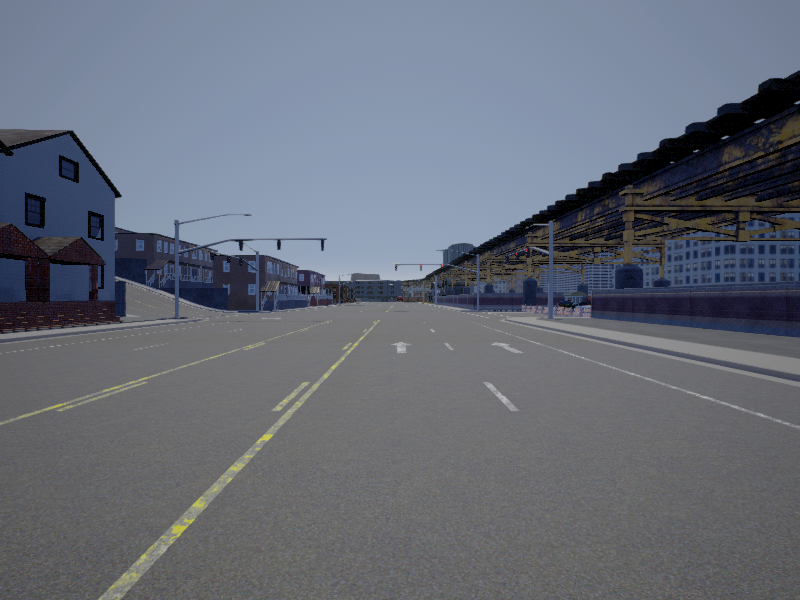Attacker: (395, 295, 407, 304)
